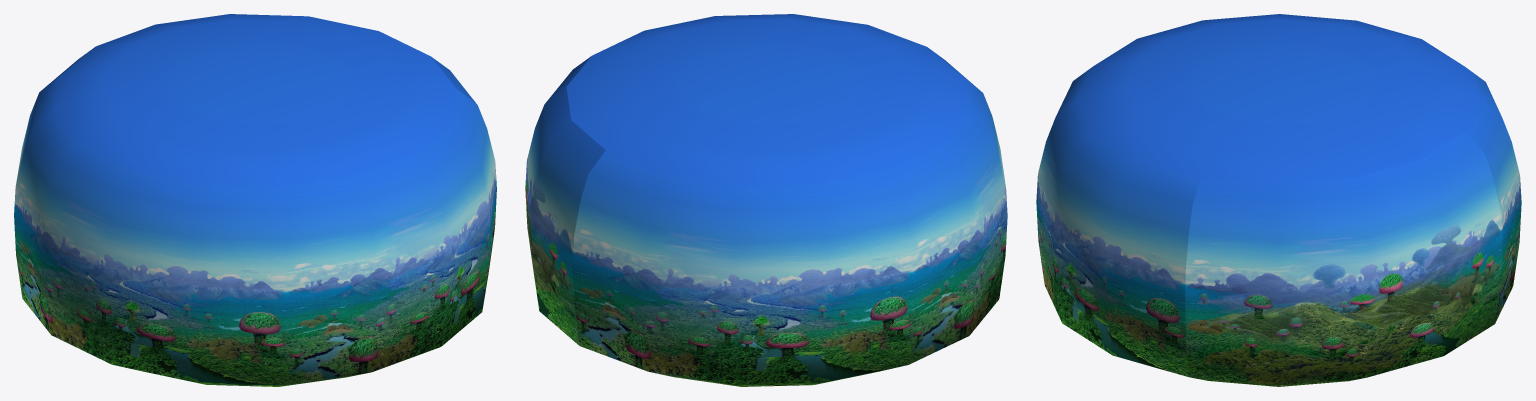
Rendered from Skybox.obj.
3 views of the same model, side by side, from view 1: azimuth 30°, elevation 25°; view 2: azimuth 150°, elevation 25°; view 3: azimuth 270°, elevation 25° (orthographic).
Bounding box in the file's own units: 24611 × 13689 × 24611.
Materials: 3 (3 with a texture image).
